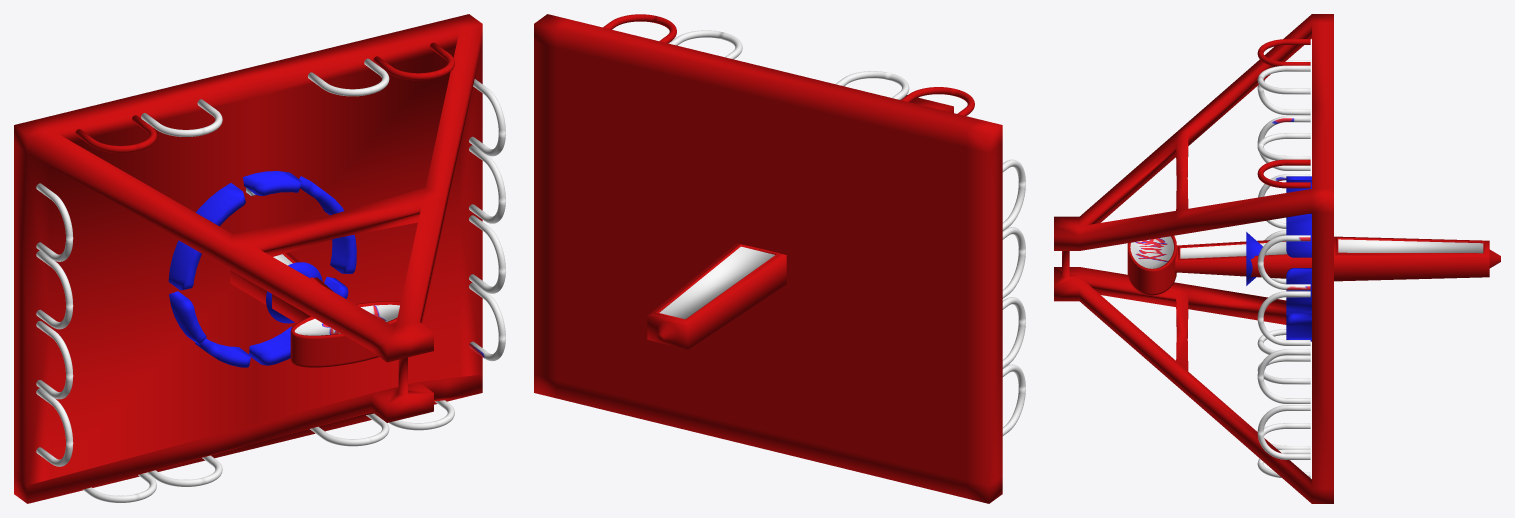
Rendered from Kamikaze.obj.
3 renders of one model, left to right at view 1: azimuth 30°, elevation 25°; view 2: azimuth 150°, elevation 25°; view 3: azimuth 270°, elevation 25°, orthographic. The views are drawn at different scales.
Parts seen in each view (by area): view 1: Base, Plataform, Rod; view 2: Base, Rod; view 3: Base, Rod, Plataform.
Boxes of the visible parts, x1,y1,x2,y2 form: Base: (14,14,505,503); Plataform: (168,171,356,367); Rod: (230,252,400,367); Base: (534,14,1025,503); Rod: (647,243,786,349); Base: (1054,14,1333,503); Rod: (1127,235,1500,295); Plataform: (1246,176,1311,341).
Size of the model in its own units: 12.77 by 9.9 by 13.1.
Materials: 4 (1 with a texture image).
